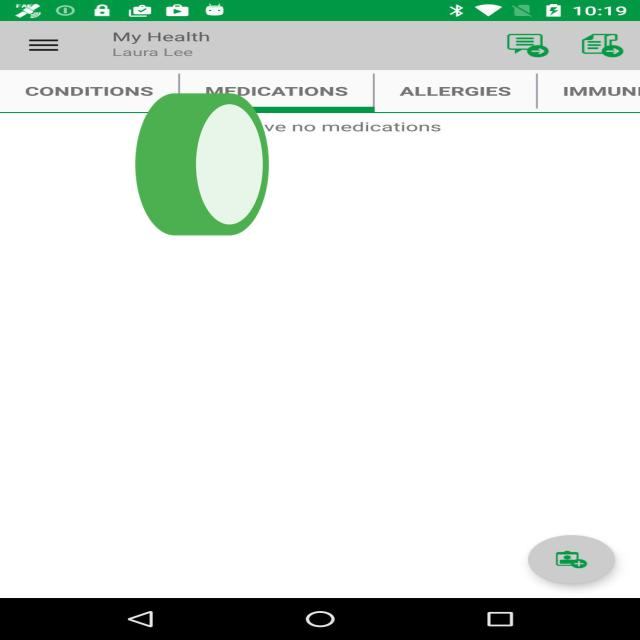social proof: (129, 39, 275, 301)
